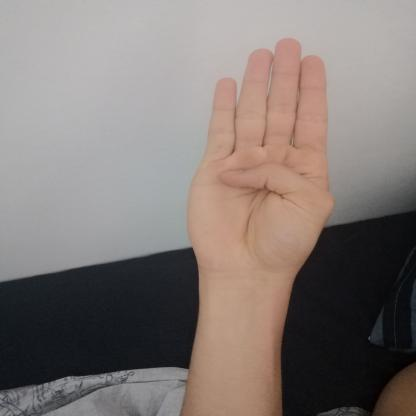KAAF: (166, 22, 357, 294)
